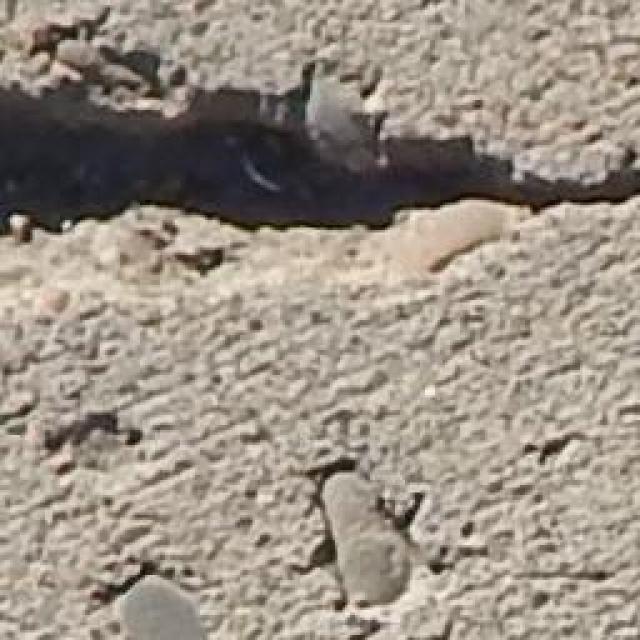concrete-crack: (0, 3, 640, 251), (288, 446, 386, 632), (362, 488, 452, 574), (83, 552, 197, 614), (43, 407, 143, 457)
